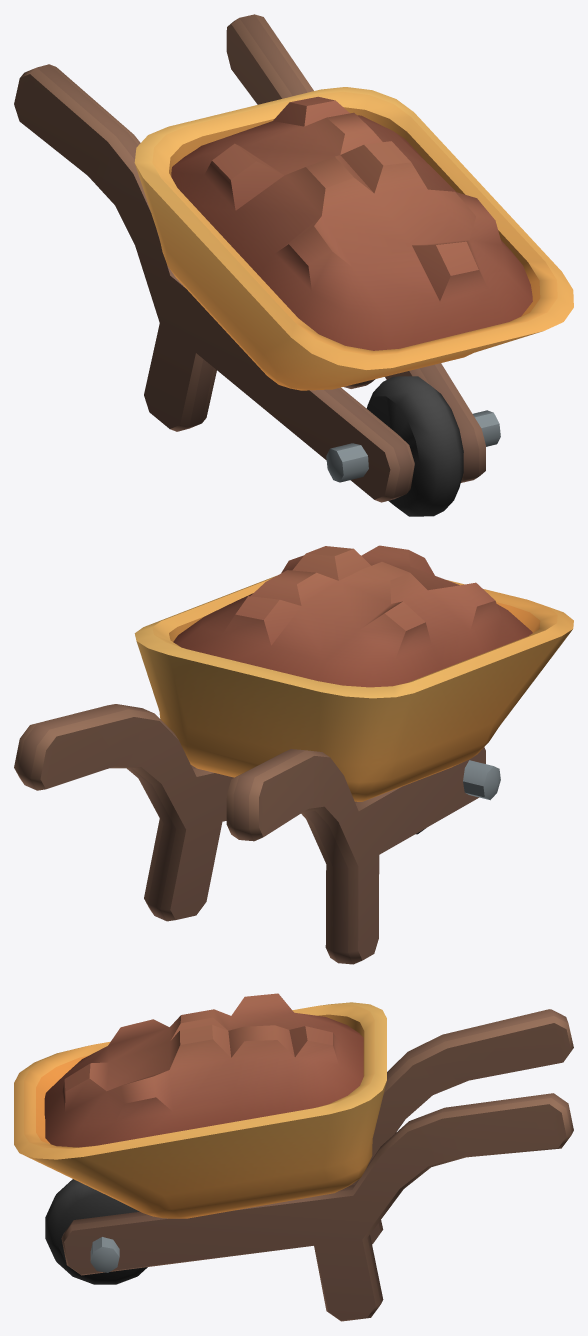
The model's file is wheelbarrow.obj.
3 views of the same model, one above another, from view 1: azimuth 30°, elevation 25°; view 2: azimuth 150°, elevation 25°; view 3: azimuth 270°, elevation 25° (orthographic). The views are drawn at different scales.
Parts seen in each view (by area): view 1: wheelbarrow; view 2: wheelbarrow; view 3: wheelbarrow.
Boxes of the visible parts, box(x1,y1,x2,y2) form: wheelbarrow: box(14, 14, 573, 516); wheelbarrow: box(14, 545, 573, 964); wheelbarrow: box(14, 993, 573, 1321).
Bounding box in the file's own units: 1.04 × 1.17 × 2.23.
1 material, 1 textured.
